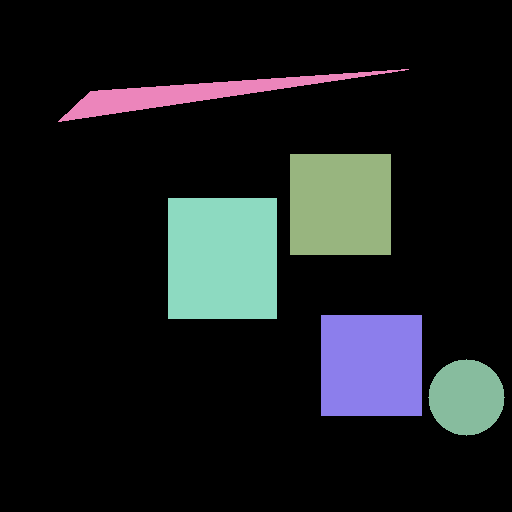circle: (428, 359, 504, 435)
square: (168, 198, 276, 318), (321, 315, 421, 415), (290, 154, 390, 254)
triangle: (58, 69, 408, 121)
